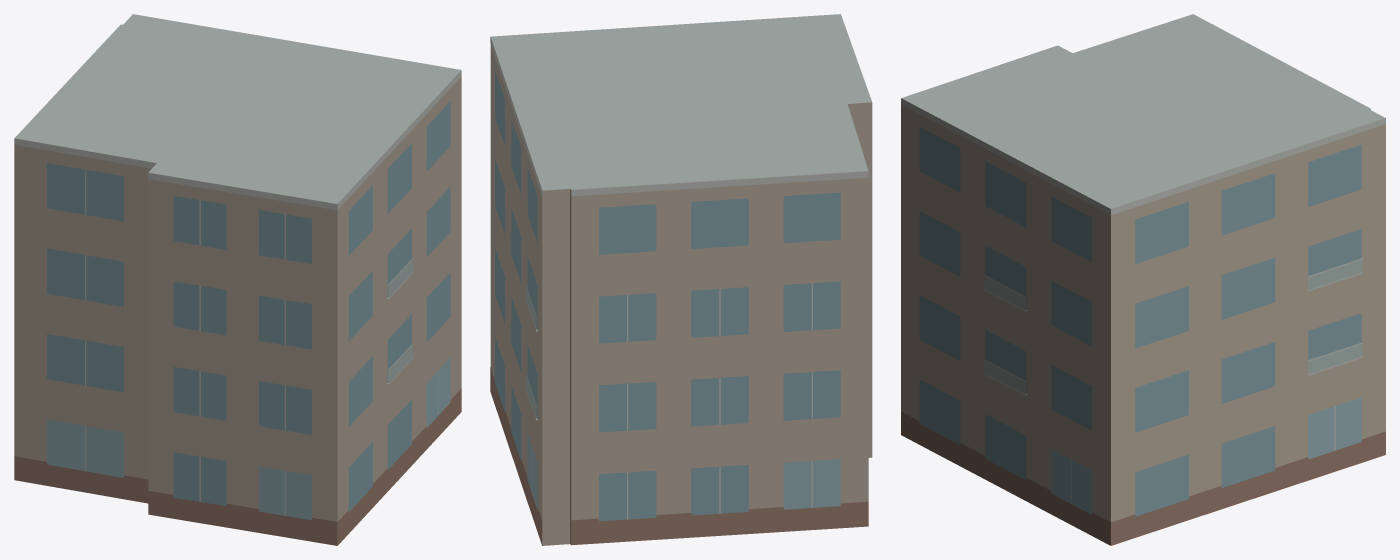
The model's file is survey-upis-32747379.glb.
3 views of the same model, side by side, from view 1: azimuth 30°, elevation 25°; view 2: azimuth 150°, elevation 25°; view 3: azimuth 270°, elevation 25° (orthographic). The views are drawn at different scales.
Parts seen in each view (by area): view 1: survey-upis-32747379.tmp; view 2: survey-upis-32747379.tmp; view 3: survey-upis-32747379.tmp.
Boxes of the visible parts, box(x1,y1,x2,y2) form: survey-upis-32747379.tmp: box(14, 14, 461, 545); survey-upis-32747379.tmp: box(490, 14, 872, 545); survey-upis-32747379.tmp: box(901, 14, 1385, 545).
Size of the model in its own units: 16.31 by 13.13 by 17.13.
